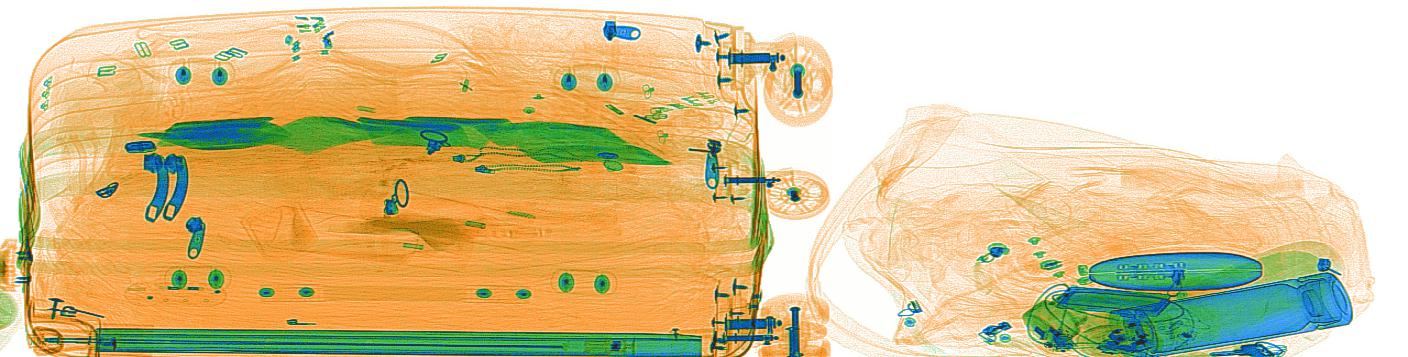plasticBottleWithaNozzle: (262, 204, 472, 271), (355, 181, 521, 247)
